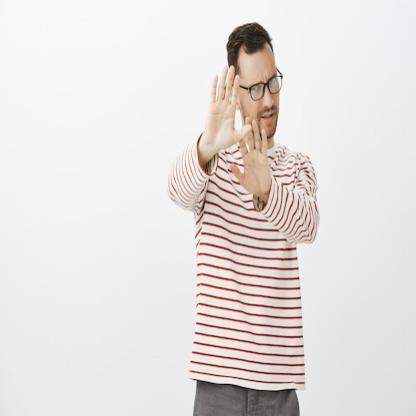stop: (204, 59, 254, 158), (229, 117, 275, 202)
